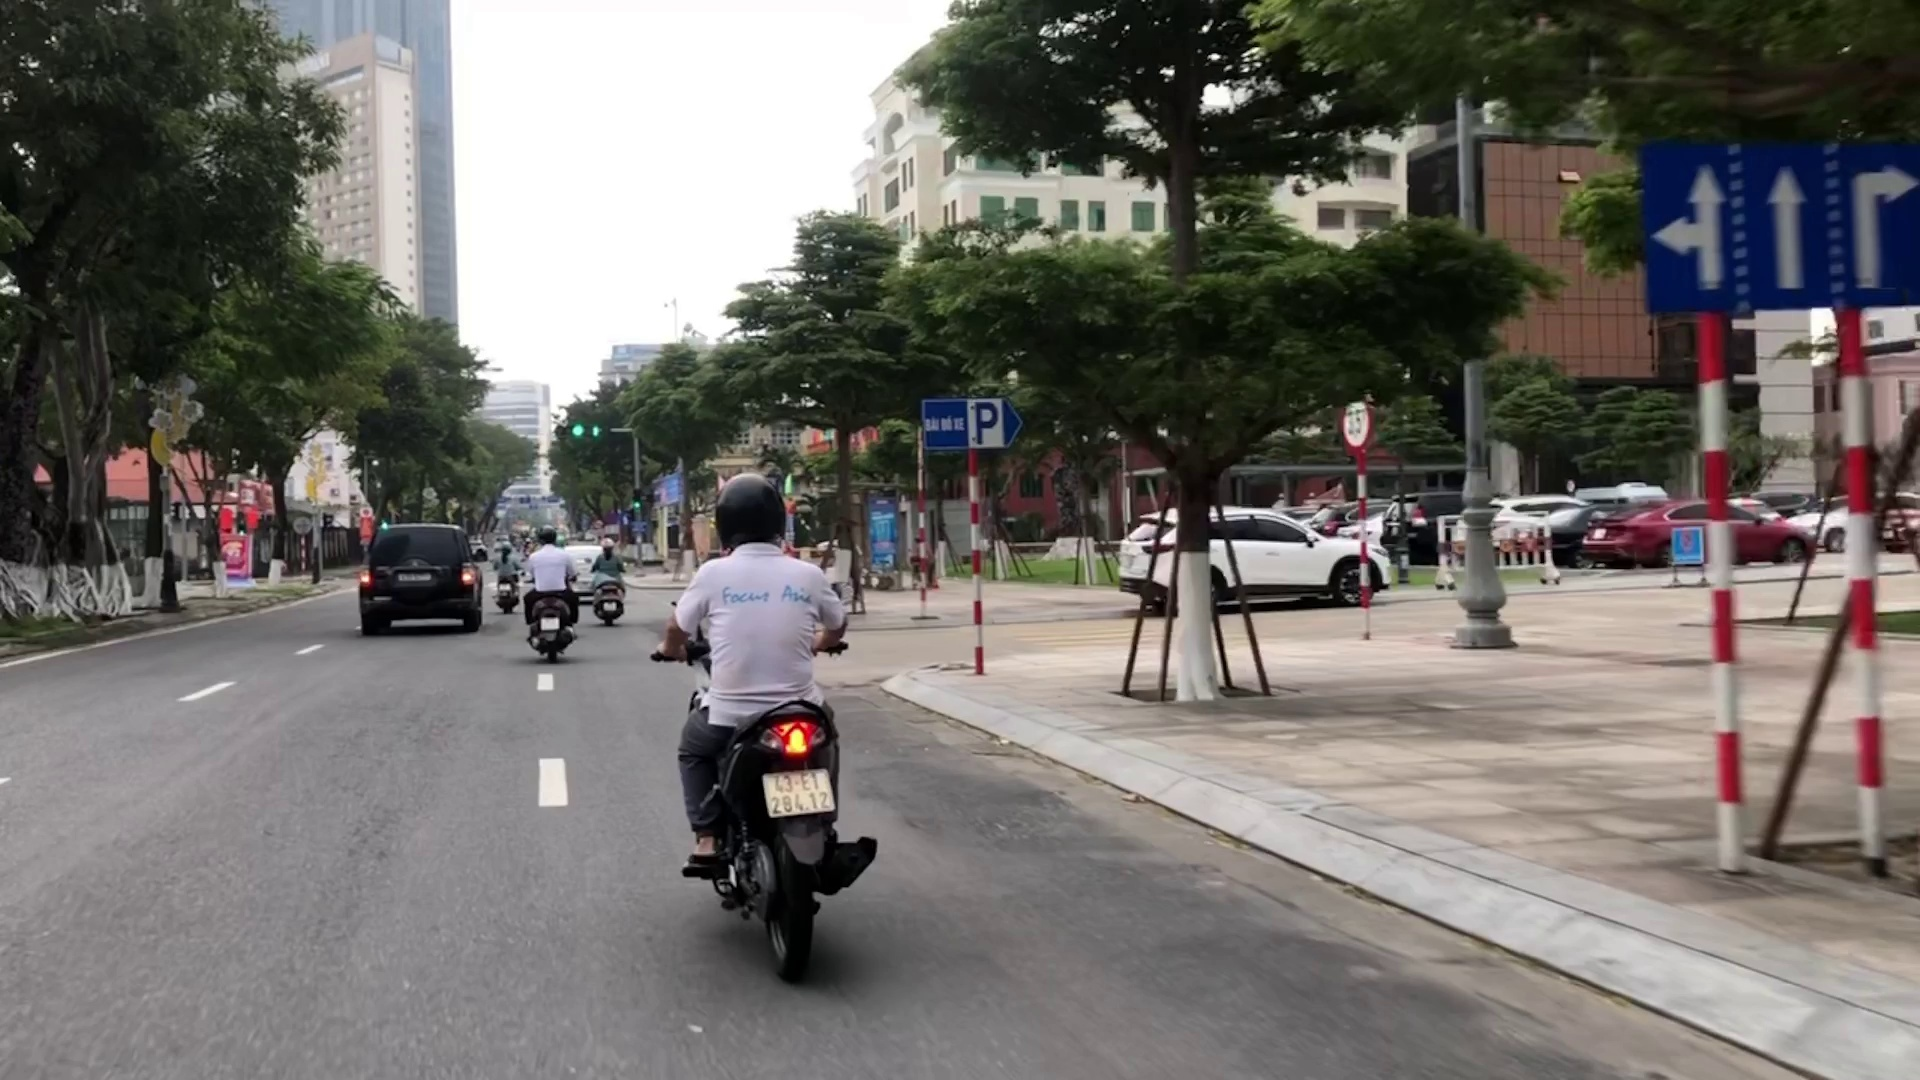Bien khac: (1634, 145, 1919, 313), (916, 392, 1027, 458), (1338, 398, 1374, 451)
